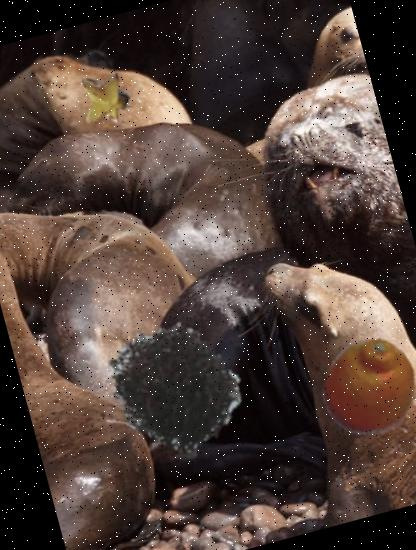Carambula: (70, 63, 142, 135)
Rambutan: (86, 298, 260, 472)
Tangelo: (307, 324, 416, 448)
